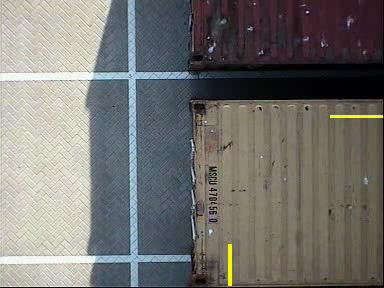groundmarker_2: (1, 84, 105, 158)
